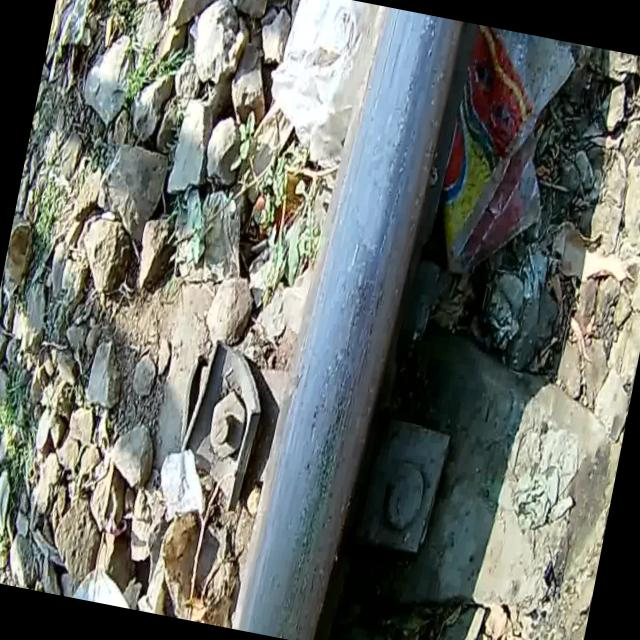Flakings: (262, 237, 396, 640)
